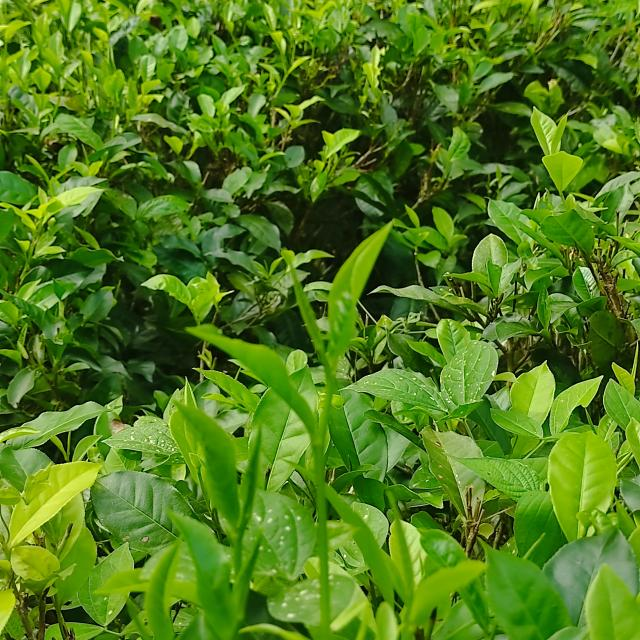unopened_leaf: (269, 249, 338, 372), (223, 522, 270, 638), (226, 416, 269, 539), (379, 485, 418, 596), (520, 528, 548, 559)
